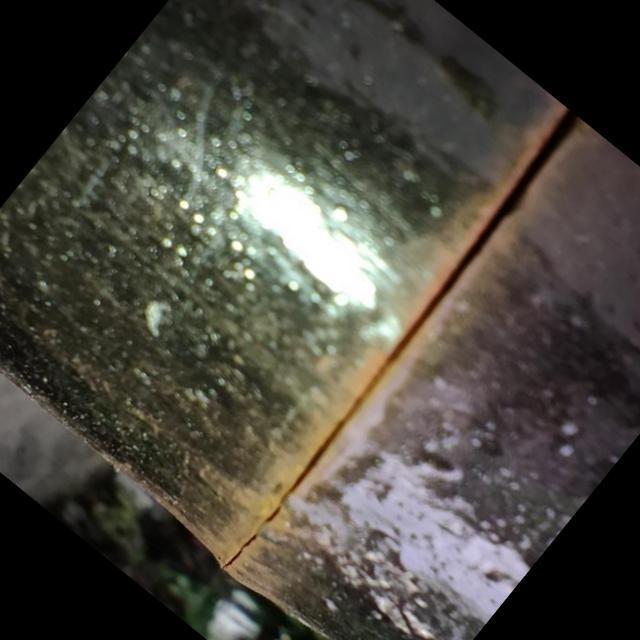defect: (214, 104, 582, 571)
